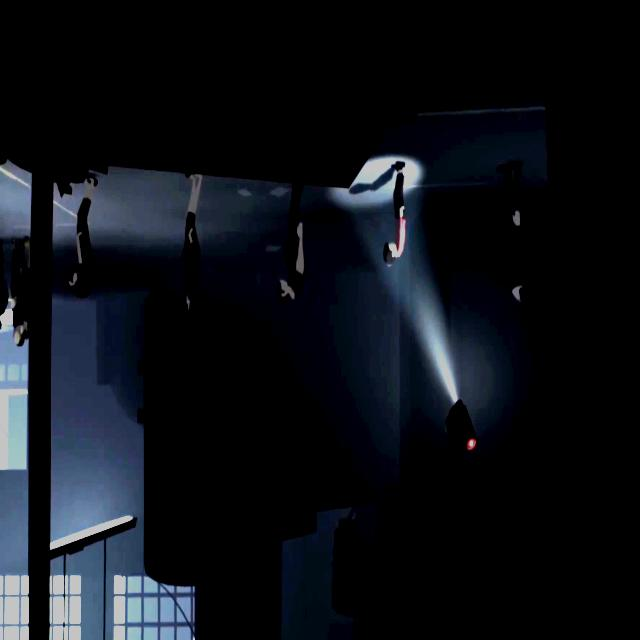boy: (384, 160, 406, 266)
human: (9, 239, 22, 312), (0, 239, 8, 331), (21, 239, 28, 339), (13, 312, 21, 348)
zombie: (63, 174, 97, 299), (497, 164, 526, 306), (278, 182, 306, 302), (184, 173, 202, 317)
